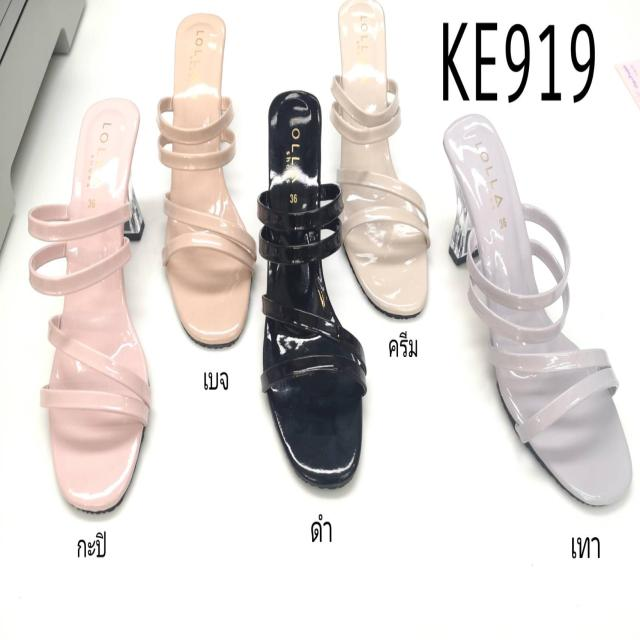bej: (158, 16, 258, 345)
black: (252, 88, 365, 482)
cream: (336, 0, 427, 320)
grey: (444, 114, 633, 511)
kapi: (28, 97, 152, 520)
